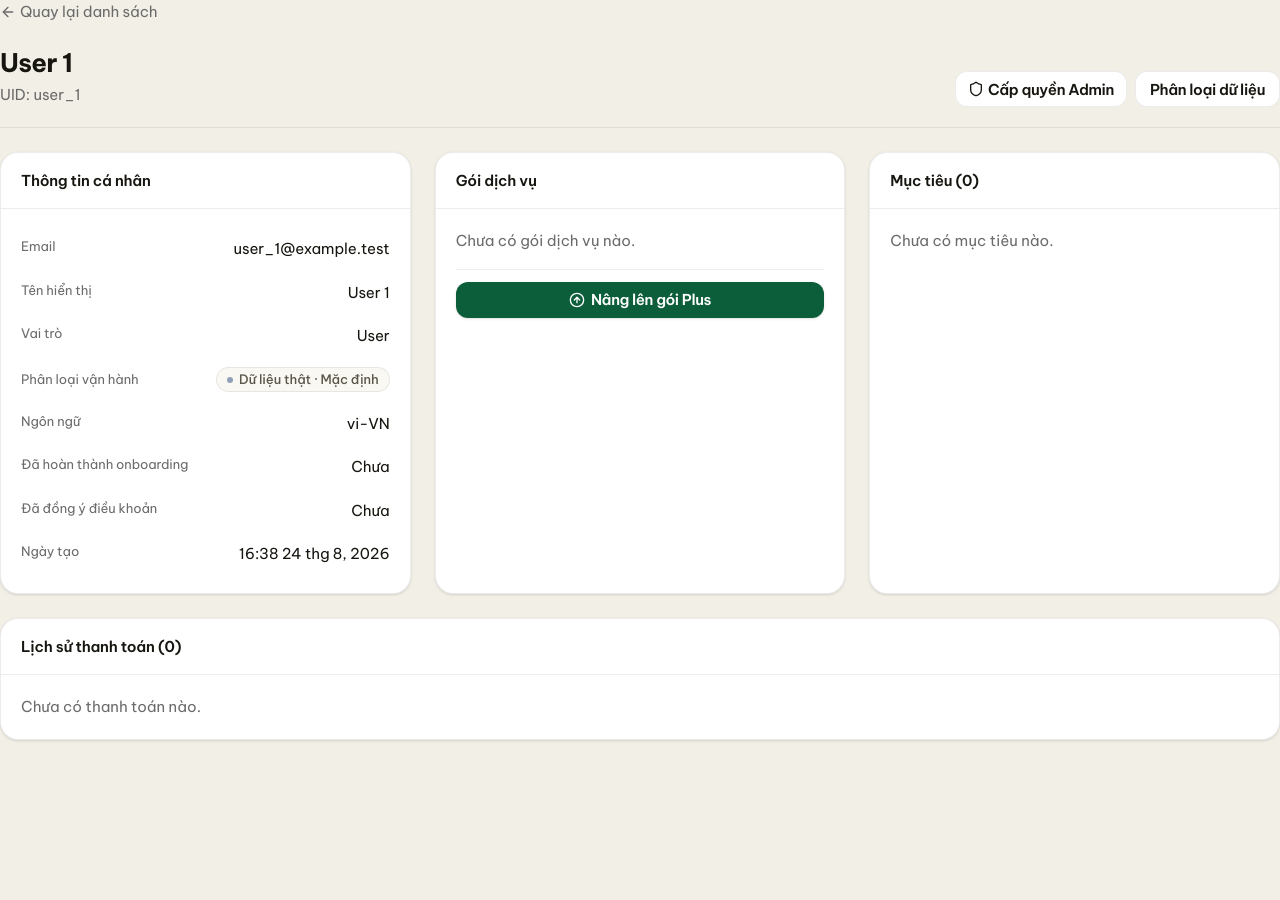
Test: AdminUserDetailPage role confirmation › keeps subscription failure persistent after the existing dialog closes
The width and height of the screenshot is (1280, 900).
Click the button "Nâng lên gói Plus" at (640, 300), box [456,282,824,318]
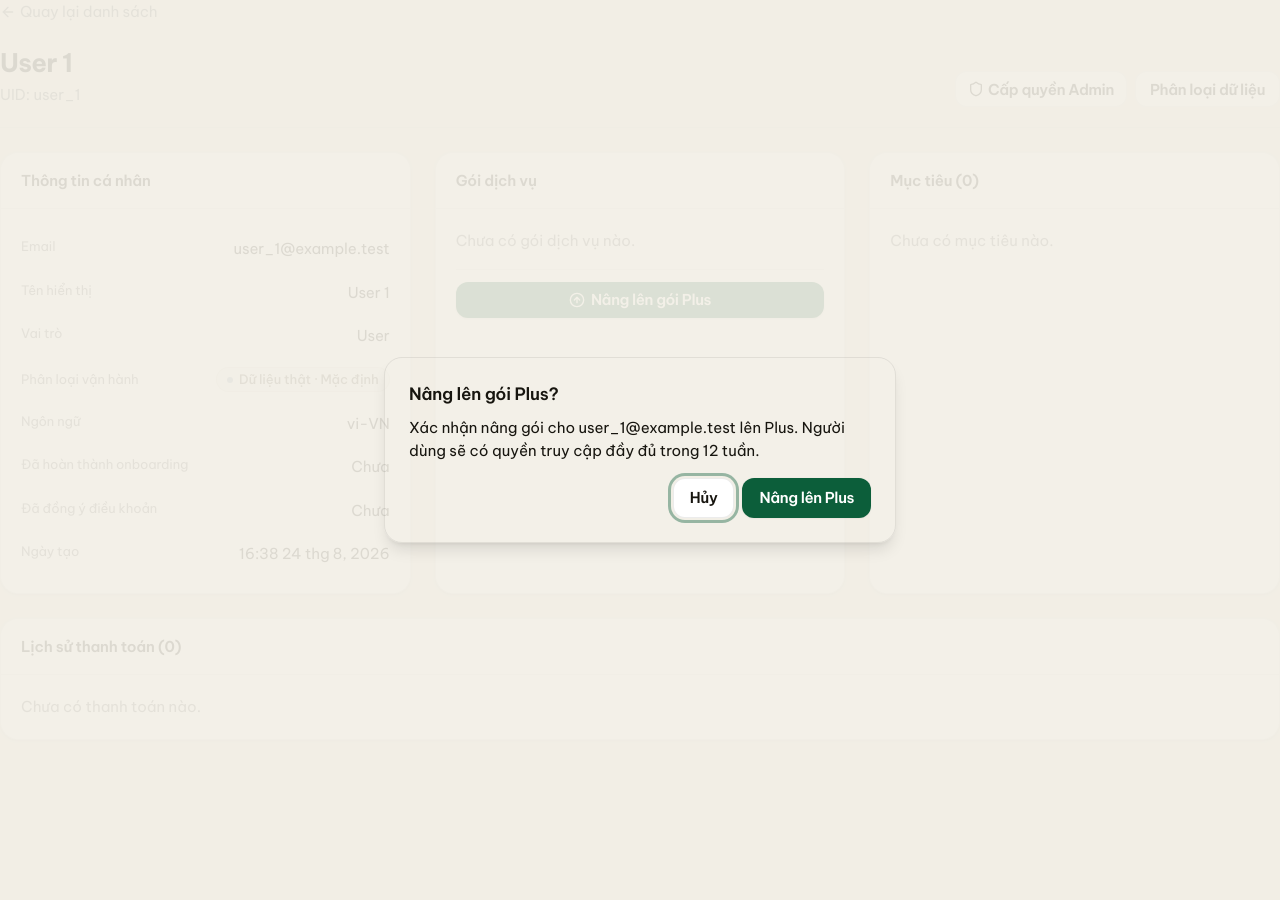
Click the button "Nâng lên Plus" at (807, 498), box [742,478,871,518]
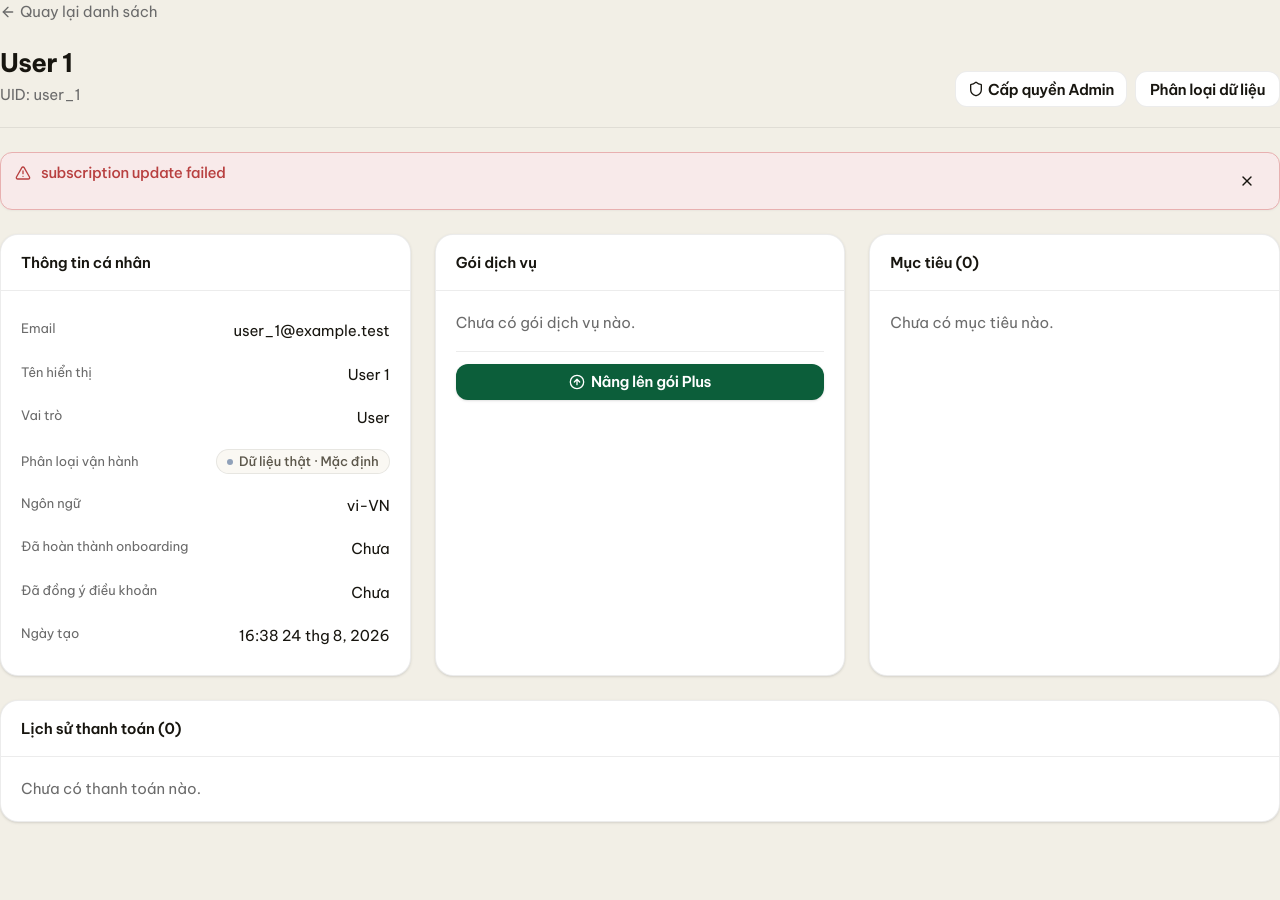
Check: the dialog "Nâng lên gói Plus?" is not shown
Check: the message reads "subscription update failed", box [41,163,226,182]
